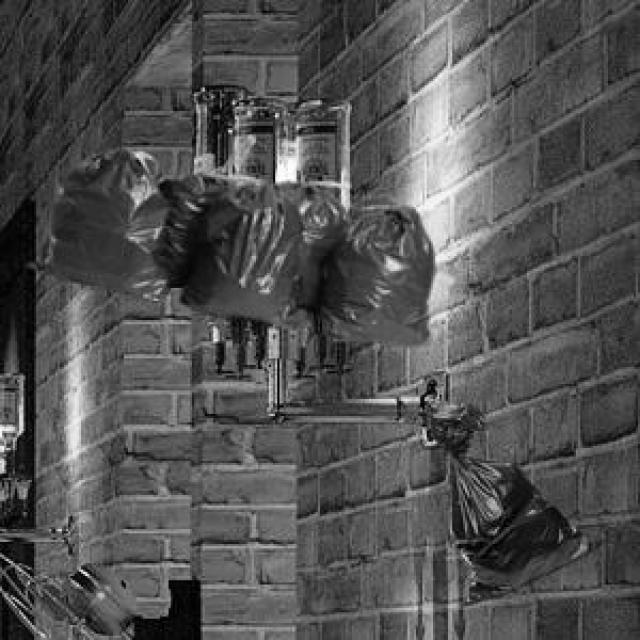miscellaneous trash: (24, 145, 431, 341), (422, 395, 600, 602)
